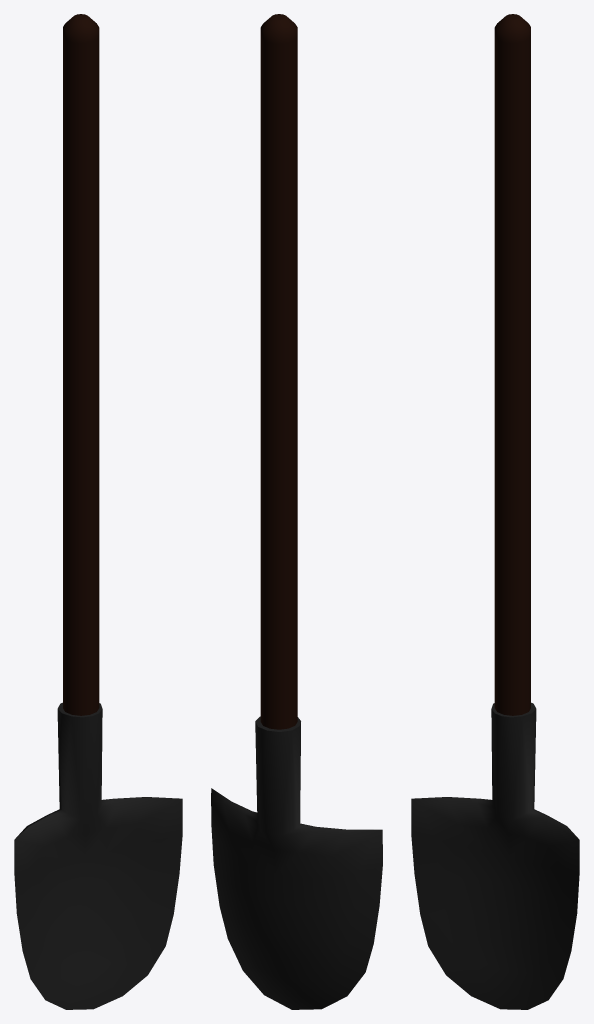
File: sh_shovel.fbx
The picture shows the model from 3 angles, left to right: view 1: azimuth 30°, elevation 25°; view 2: azimuth 150°, elevation 25°; view 3: azimuth 330°, elevation 25°; orthographic projection.
Parts seen in each view (by area): view 1: sh_shovel; view 2: sh_shovel; view 3: sh_shovel.
Boxes of the visible parts, x1,y1,x2,y2 form: sh_shovel: [14, 14, 182, 1009]; sh_shovel: [211, 14, 382, 1009]; sh_shovel: [411, 14, 579, 1009].
Bounding box in the file's own units: 26.97 × 150 × 8.11.
